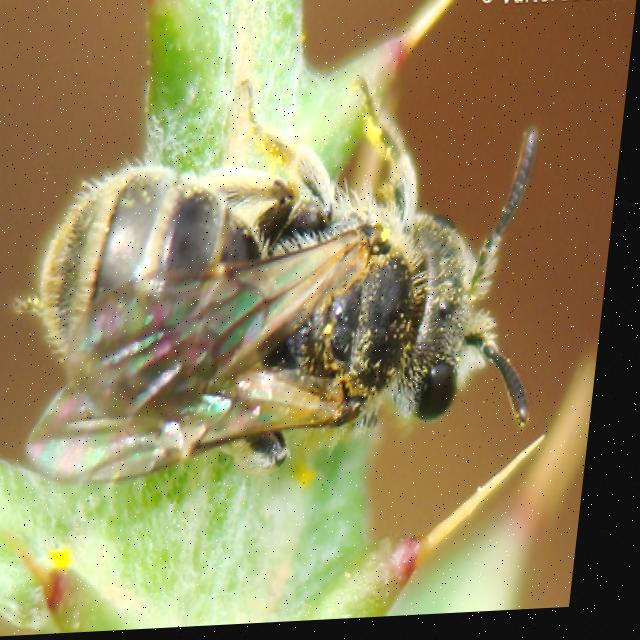Lasioglossum: (5, 53, 581, 525)
